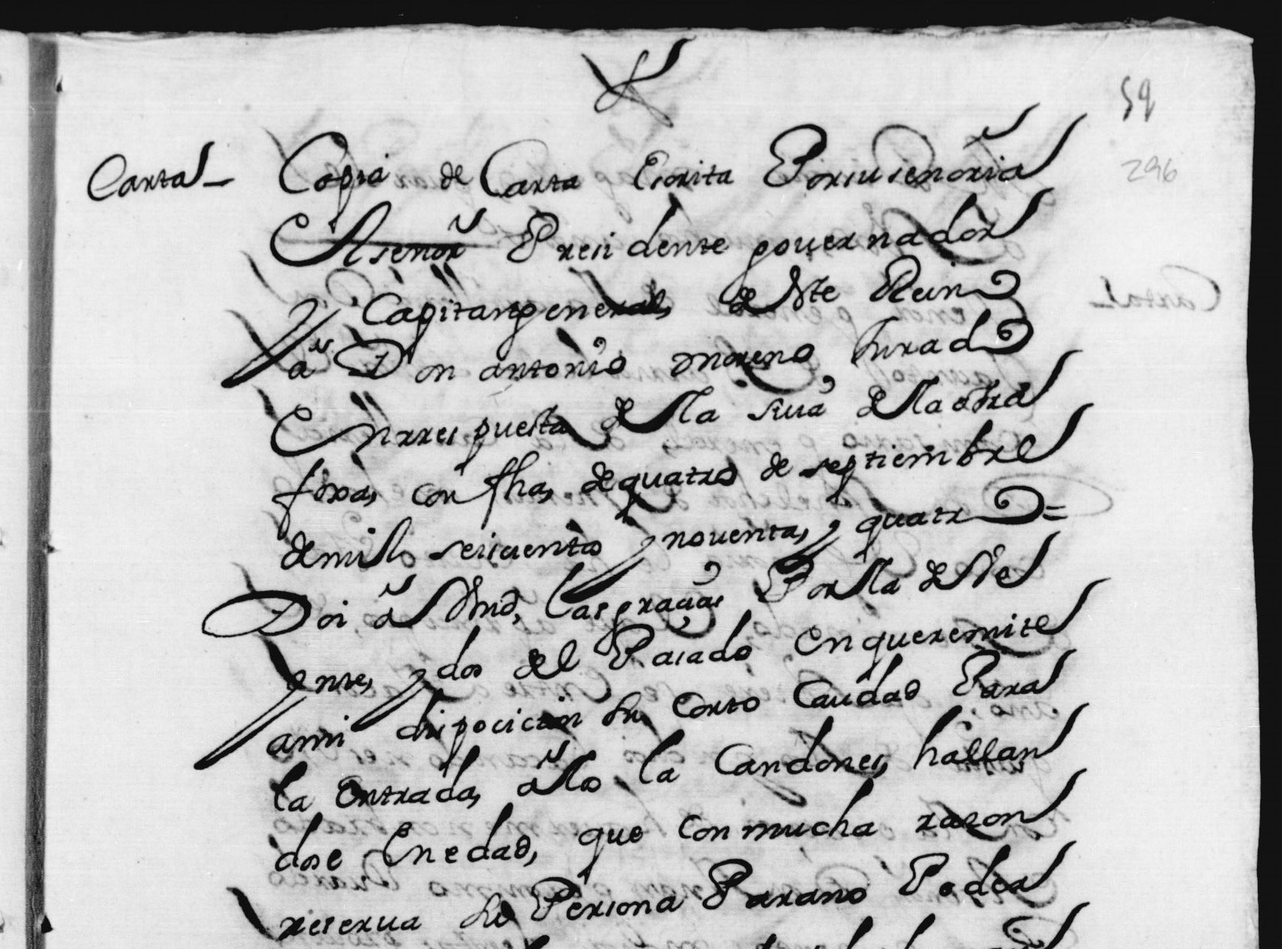lacandon: (639, 715, 884, 784)
